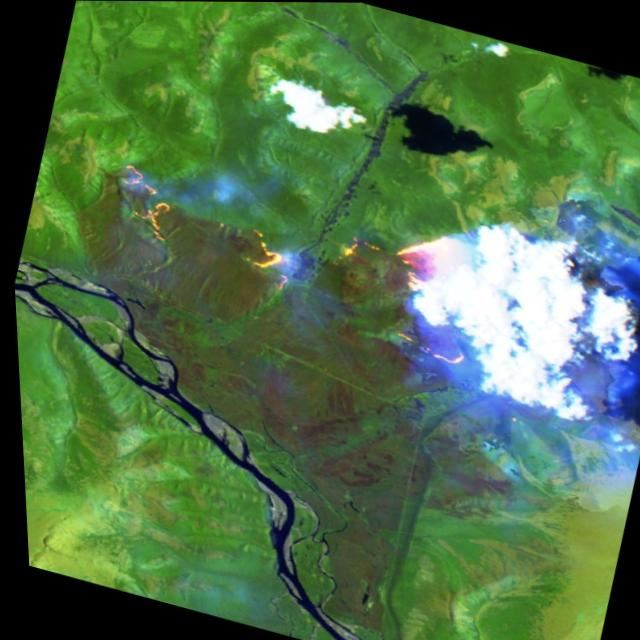fire: (74, 151, 530, 381)
